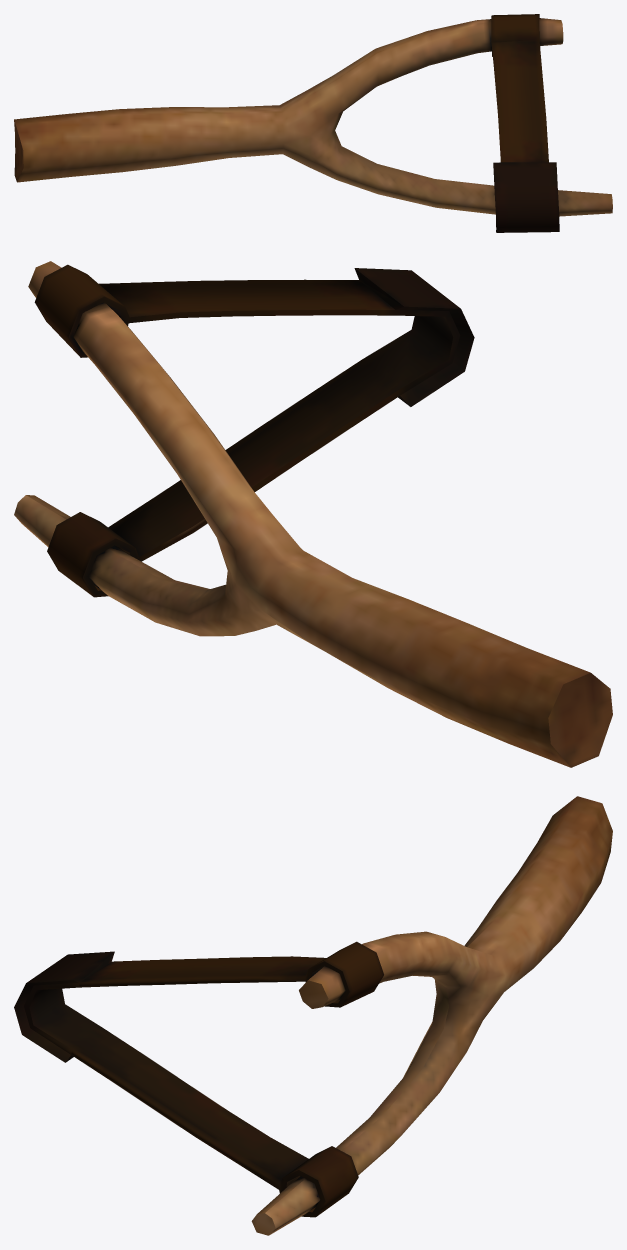
The model's file is slingshot.obj.
The picture shows the model from 3 angles, top to bottom: view 1: azimuth 30°, elevation 25°; view 2: azimuth 150°, elevation 25°; view 3: azimuth 270°, elevation 25°; orthographic projection. The views are drawn at different scales.
Visible parts, largest first — view 1: slingshot; view 2: slingshot; view 3: slingshot.
Part boxes in pixels (x1,y1,x2,y2): slingshot: (14,14,612,232); slingshot: (14,261,612,767); slingshot: (14,796,612,1235).
Size of the model in its own units: 0.4062 by 0.1602 by 0.3423.
Materials: 1 (1 with a texture image).
